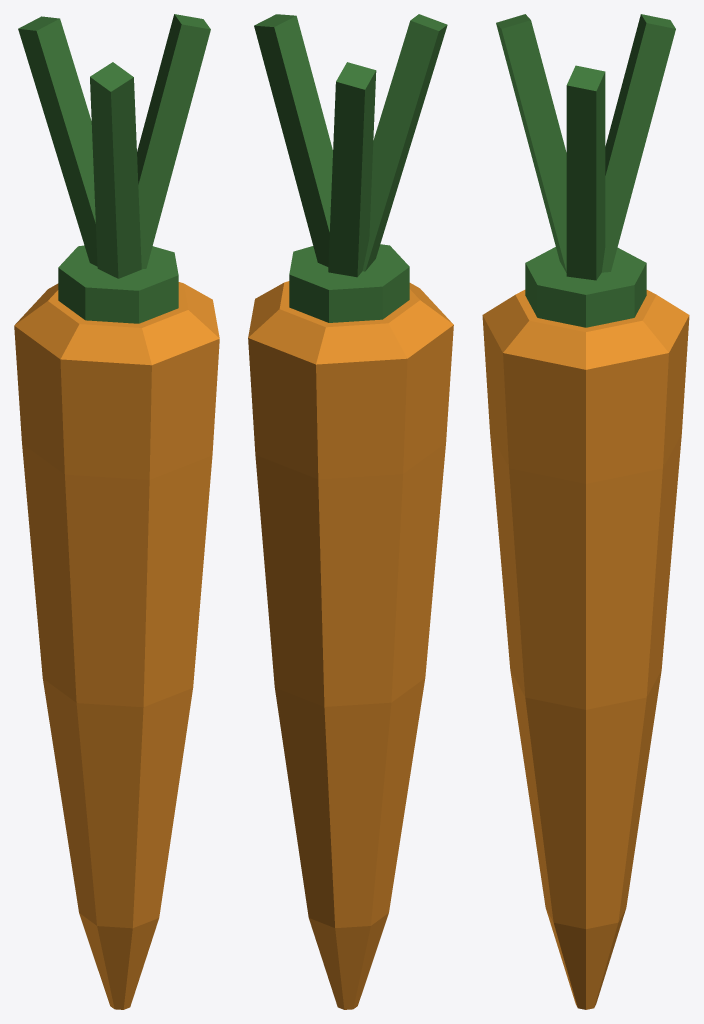
File: FD_Carrot_01.glb
3 renders of one model, left to right at view 1: azimuth 30°, elevation 25°; view 2: azimuth 150°, elevation 25°; view 3: azimuth 270°, elevation 25°, orthographic.
Parts seen in each view (by area): view 1: FD_Carrot_01; view 2: FD_Carrot_01; view 3: FD_Carrot_01.
Part boxes in pixels (x1,y1,x2,y2): FD_Carrot_01: [14, 14, 219, 1009]; FD_Carrot_01: [248, 14, 453, 1009]; FD_Carrot_01: [482, 14, 689, 1009].
Size of the model in its own units: 0.039 by 0.2063 by 0.04.
Materials: 1 (1 with a texture image).
